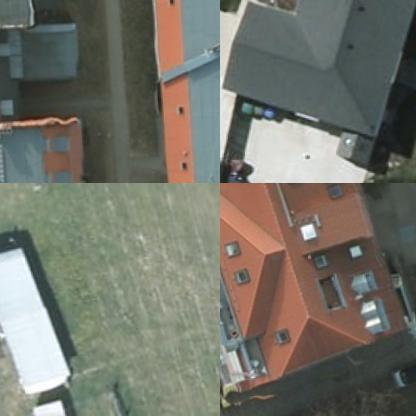camping car: (0, 242, 64, 394)
car: (391, 348, 415, 387)
